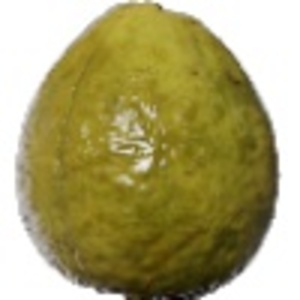goiaba: (10, 2, 283, 299)
